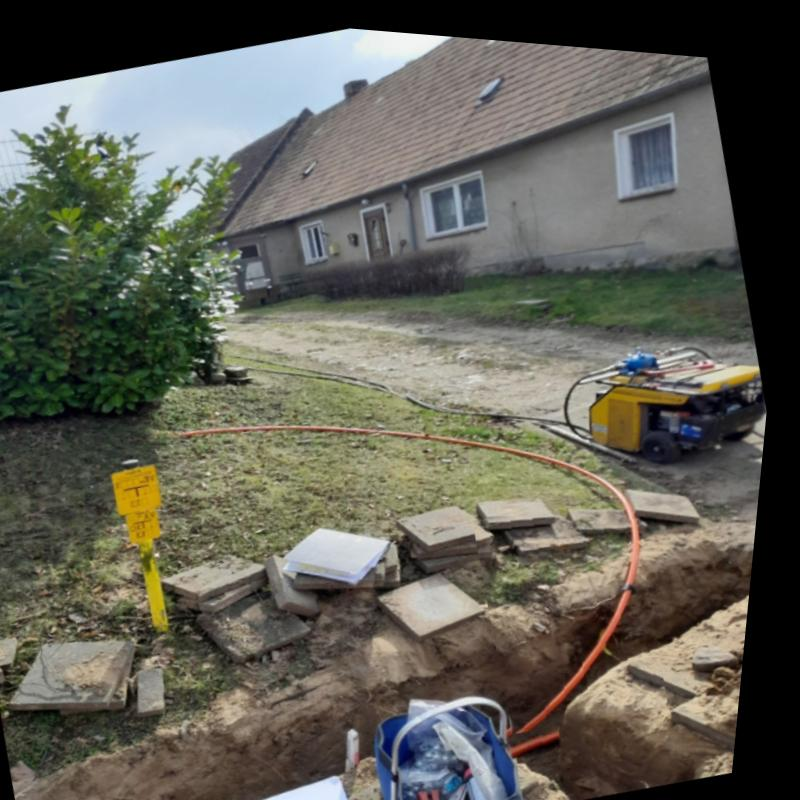Orang-Speednetrohrchen: (525, 477, 648, 724), (523, 720, 572, 744)
